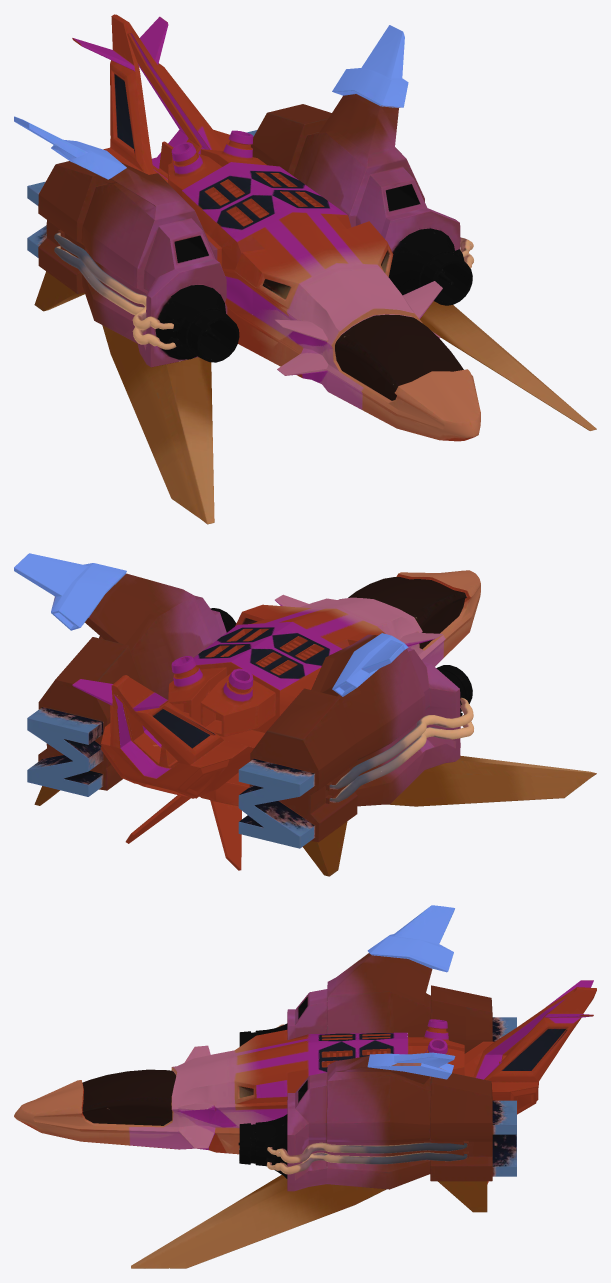
The model's file is MOMOSHIP.glb.
The picture shows the model from 3 angles, top to bottom: view 1: azimuth 30°, elevation 25°; view 2: azimuth 150°, elevation 25°; view 3: azimuth 270°, elevation 25°; orthographic projection. The views are drawn at different scales.
Visible parts, largest first — view 1: MOMOSHIP; view 2: MOMOSHIP; view 3: MOMOSHIP.
Boxes of the visible parts, x1,y1,x2,y2 form: MOMOSHIP: (14, 14, 596, 524); MOMOSHIP: (14, 553, 596, 876); MOMOSHIP: (14, 905, 596, 1268).
Size of the model in its own units: 17.42 by 11.16 by 27.66.
2 materials, 2 textured.
